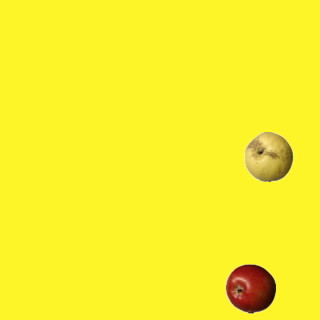Apple Braeburn: (225, 263, 275, 313)
Apple Golden 1: (243, 131, 293, 181)
